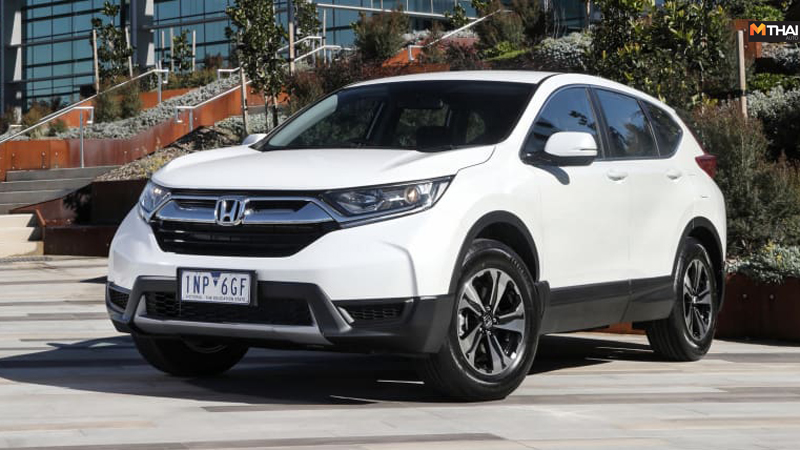pickup: (104, 69, 731, 400)
